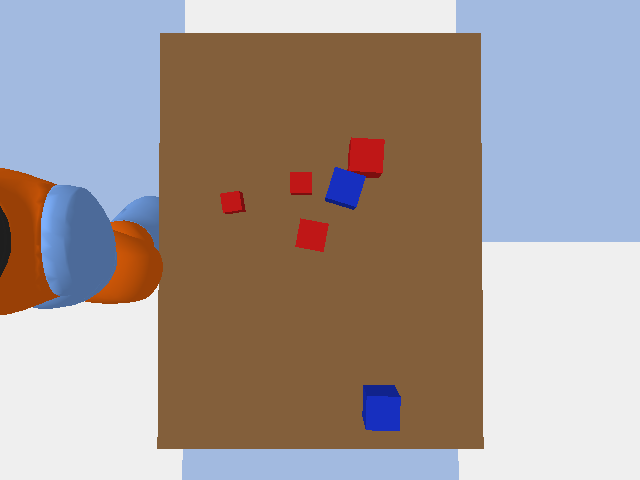blue_obj: (362, 385, 400, 430), (325, 167, 365, 209)
red_obj: (347, 137, 384, 177), (295, 218, 328, 251), (220, 191, 245, 213), (290, 172, 311, 194)
